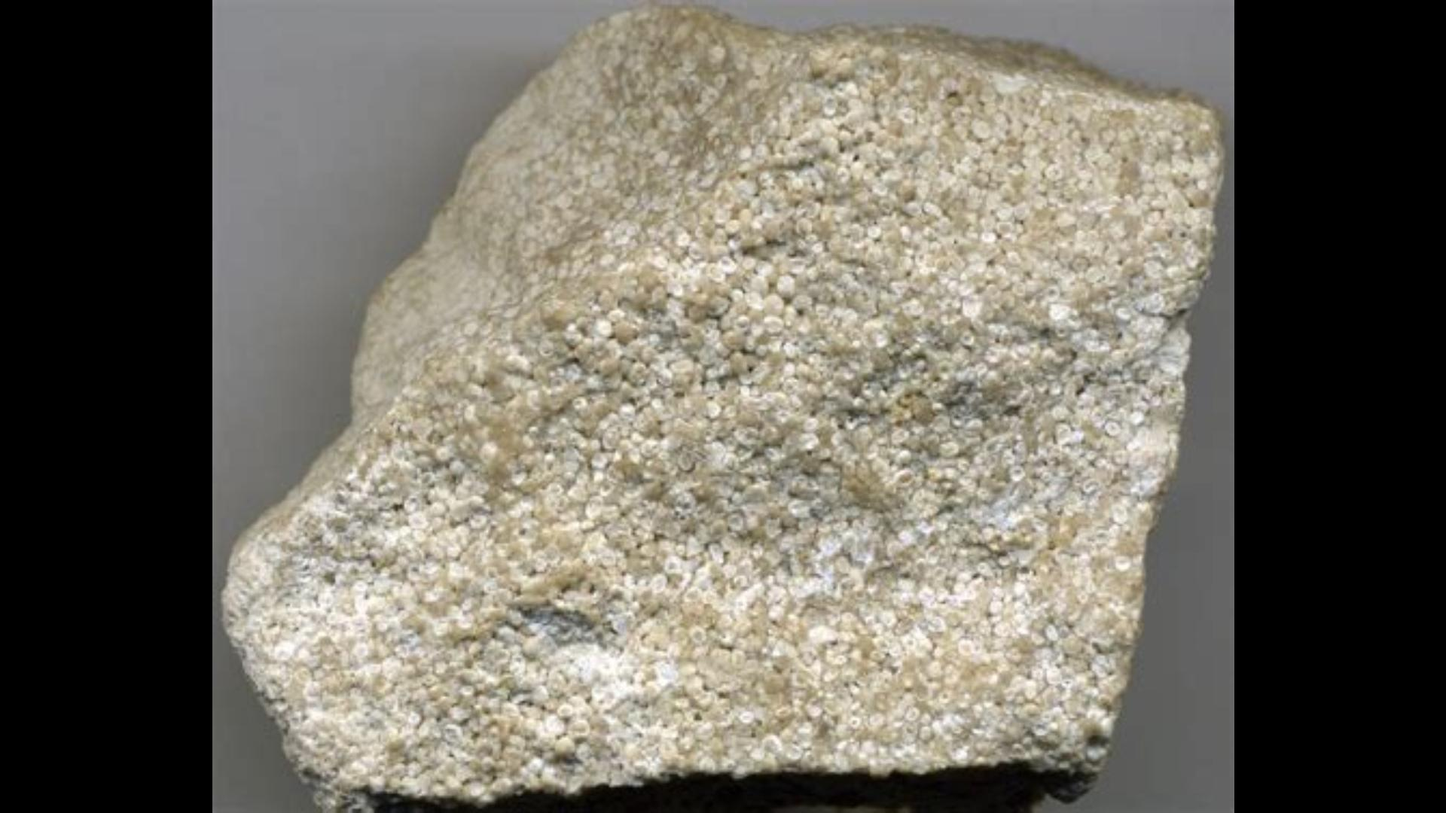rock: (225, 9, 1215, 802)
